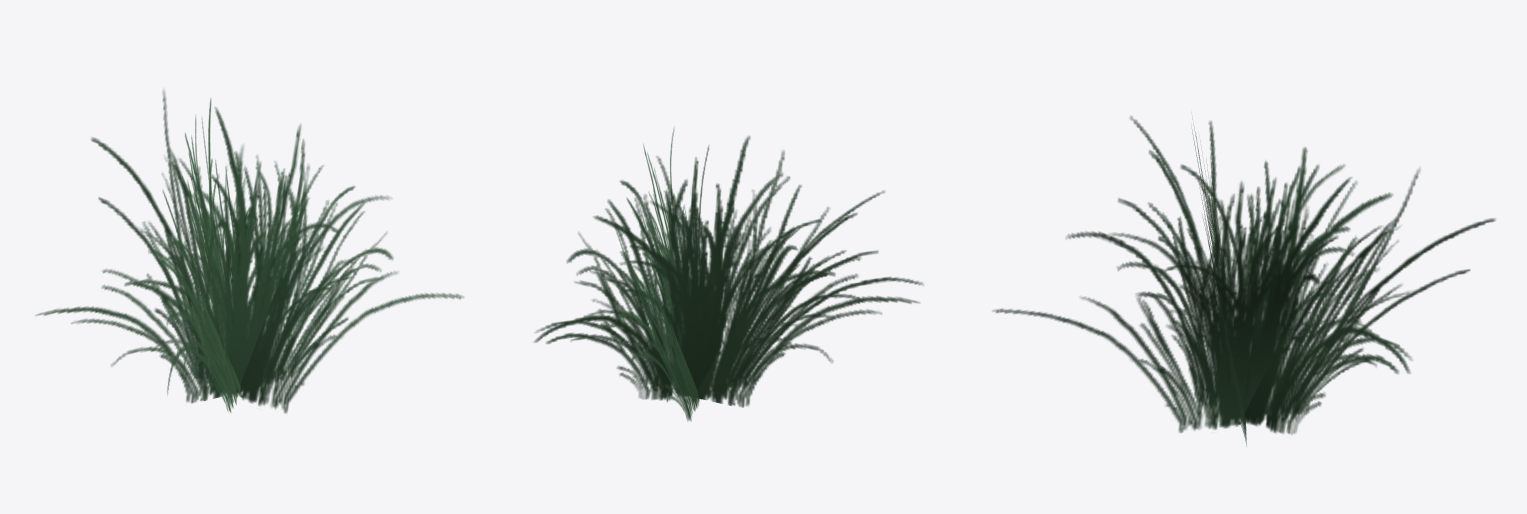
The model's file is grass_small1.glb.
3 views of the same model, side by side, from view 1: azimuth 30°, elevation 25°; view 2: azimuth 150°, elevation 25°; view 3: azimuth 270°, elevation 25° (orthographic). The views are drawn at different scales.
Parts seen in each view (by area): view 1: Grass small 1; view 2: Grass small 1; view 3: Grass small 1.
Part boxes in pixels (x1,y1,x2,y2): Grass small 1: [35, 90, 463, 413]; Grass small 1: [534, 127, 923, 421]; Grass small 1: [992, 116, 1495, 446].
Size of the model in its own units: 0.2517 by 0.1887 by 0.2934.
1 material, 1 textured.
